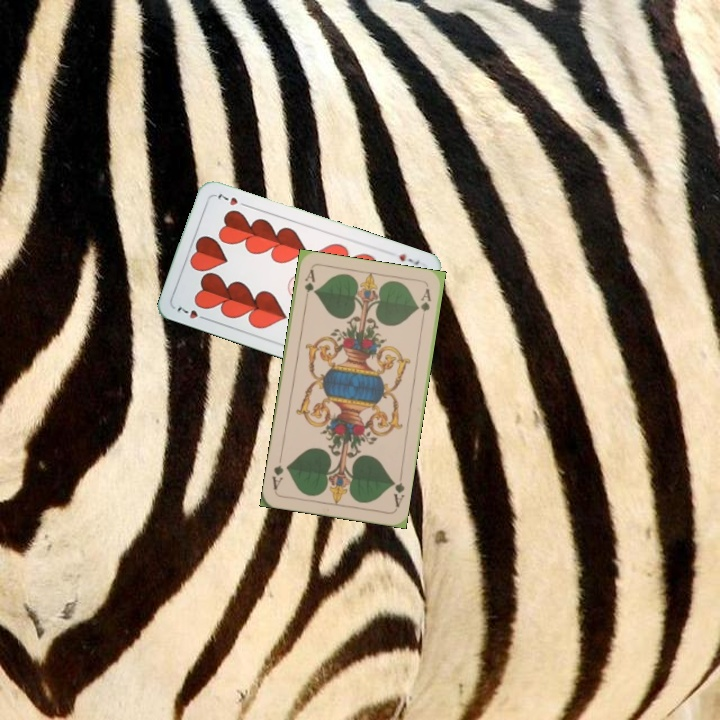GA: (388, 471, 407, 510), (300, 265, 318, 306)
H7: (173, 303, 211, 323), (395, 250, 422, 268)
